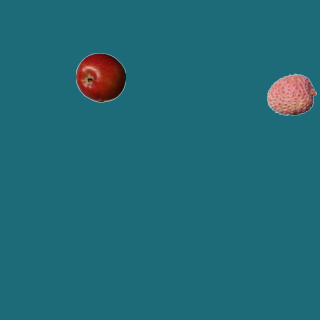Apple Braeburn: (75, 52, 125, 102)
Lychee: (266, 69, 316, 119)
